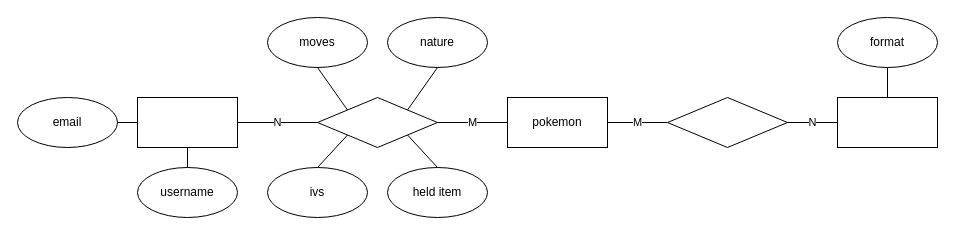
Image size: 955x235. Some labels were removed from this diagram. Each missing label, with the centre of its shape:
"contains" goes at (727,122).
"creates" goes at (377,122).
"team" goes at (887,122).
"user" goes at (187,122).
